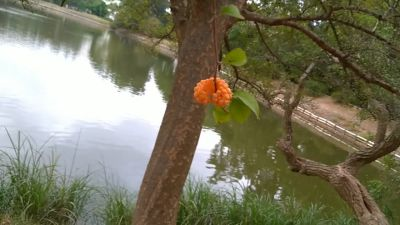eggs: (192, 76, 234, 107)
